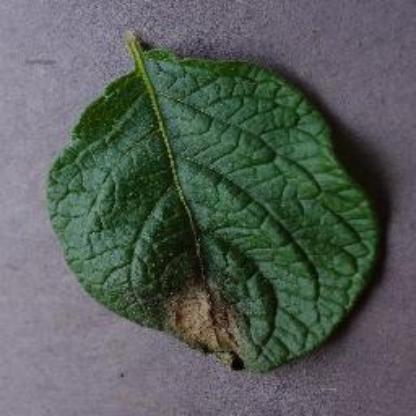Late-Blight: (32, 30, 392, 388)
